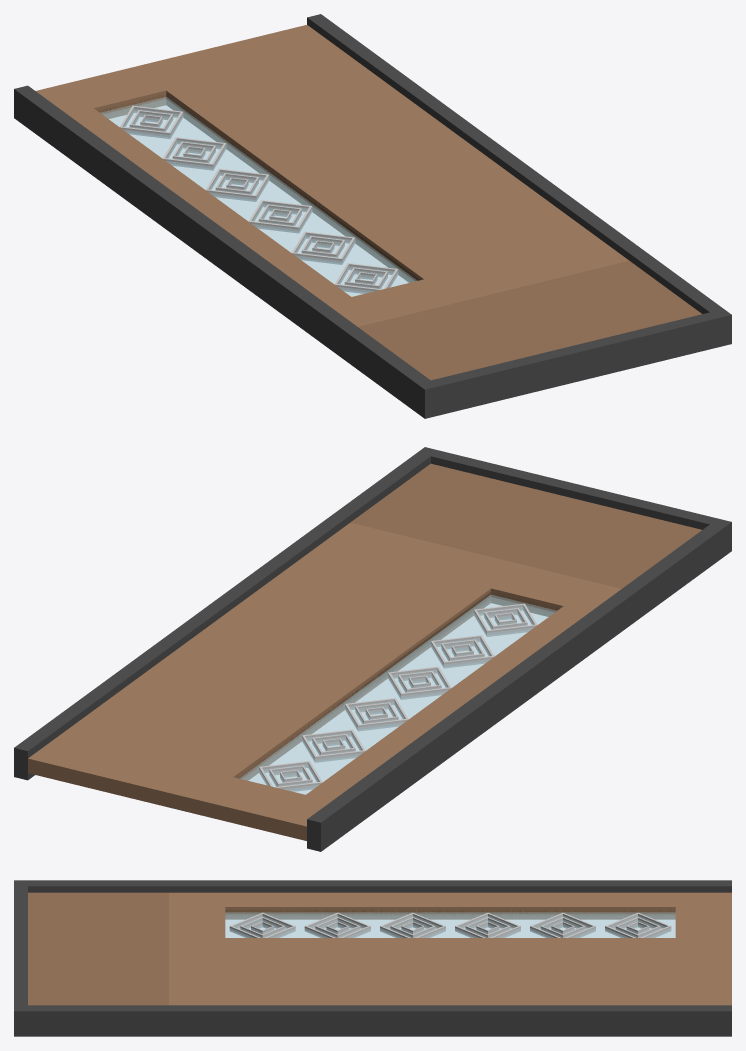
File: Parametric_Door_X_1000mm.obj
The picture shows the model from 3 angles, top to bottom: view 1: azimuth 30°, elevation 25°; view 2: azimuth 150°, elevation 25°; view 3: azimuth 270°, elevation 25°; orthographic projection. The views are drawn at different scales.
Parts seen in each view (by area): view 1: DOOR_LEAF, DOOR_FRAME, DOOR_TRANSOM, DOOR_GLASS, DOOR_DIAMONDS, DOOR_TRIM; view 2: DOOR_LEAF, DOOR_FRAME, DOOR_TRANSOM, DOOR_GLASS, DOOR_DIAMONDS, DOOR_TRIM; view 3: DOOR_LEAF, DOOR_FRAME, DOOR_TRANSOM, DOOR_GLASS, DOOR_DIAMONDS, DOOR_TRIM.
Part boxes in pixels (<box>): DOOR_LEAF: <box>36,25,628,326</box>; DOOR_FRAME: <box>14,14,731,418</box>; DOOR_TRANSOM: <box>358,260,701,380</box>; DOOR_GLASS: <box>101,97,416,296</box>; DOOR_DIAMONDS: <box>120,105,398,293</box>; DOOR_TRIM: <box>98,94,420,281</box>; DOOR_LEAF: <box>28,522,621,840</box>; DOOR_FRAME: <box>14,447,731,851</box>; DOOR_TRANSOM: <box>350,463,701,588</box>; DOOR_GLASS: <box>240,595,556,794</box>; DOOR_DIAMONDS: <box>259,603,537,791</box>; DOOR_TRIM: <box>242,592,558,776</box>; DOOR_LEAF: <box>169,892,731,1005</box>; DOOR_FRAME: <box>14,880,731,1036</box>; DOOR_TRANSOM: <box>28,892,168,1005</box>; DOOR_GLASS: <box>225,912,675,937</box>; DOOR_DIAMONDS: <box>229,912,671,937</box>; DOOR_TRIM: <box>225,909,674,916</box>.
Bounding box in the file's own units: 1100 × 100 × 2550.
